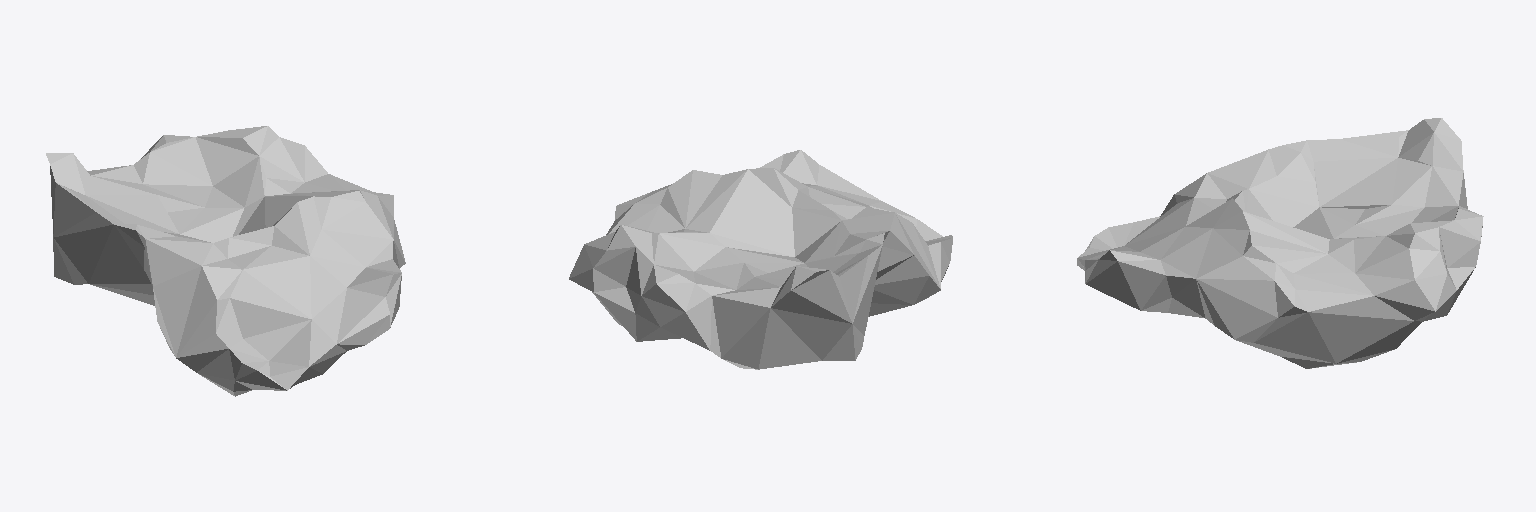
Rendered from paper_trash.obj.
3 renders of one model, left to right at view 1: azimuth 30°, elevation 25°; view 2: azimuth 150°, elevation 25°; view 3: azimuth 270°, elevation 25°, orthographic.
Visible parts, largest first — view 1: Sphere001; view 2: Sphere001; view 3: Sphere001.
Part boxes in pixels (x1,y1,x2,y2): Sphere001: (46, 126, 405, 396); Sphere001: (569, 150, 952, 369); Sphere001: (1077, 118, 1483, 368).
Bounding box in the file's own units: 8.94 × 4.43 × 10.88.